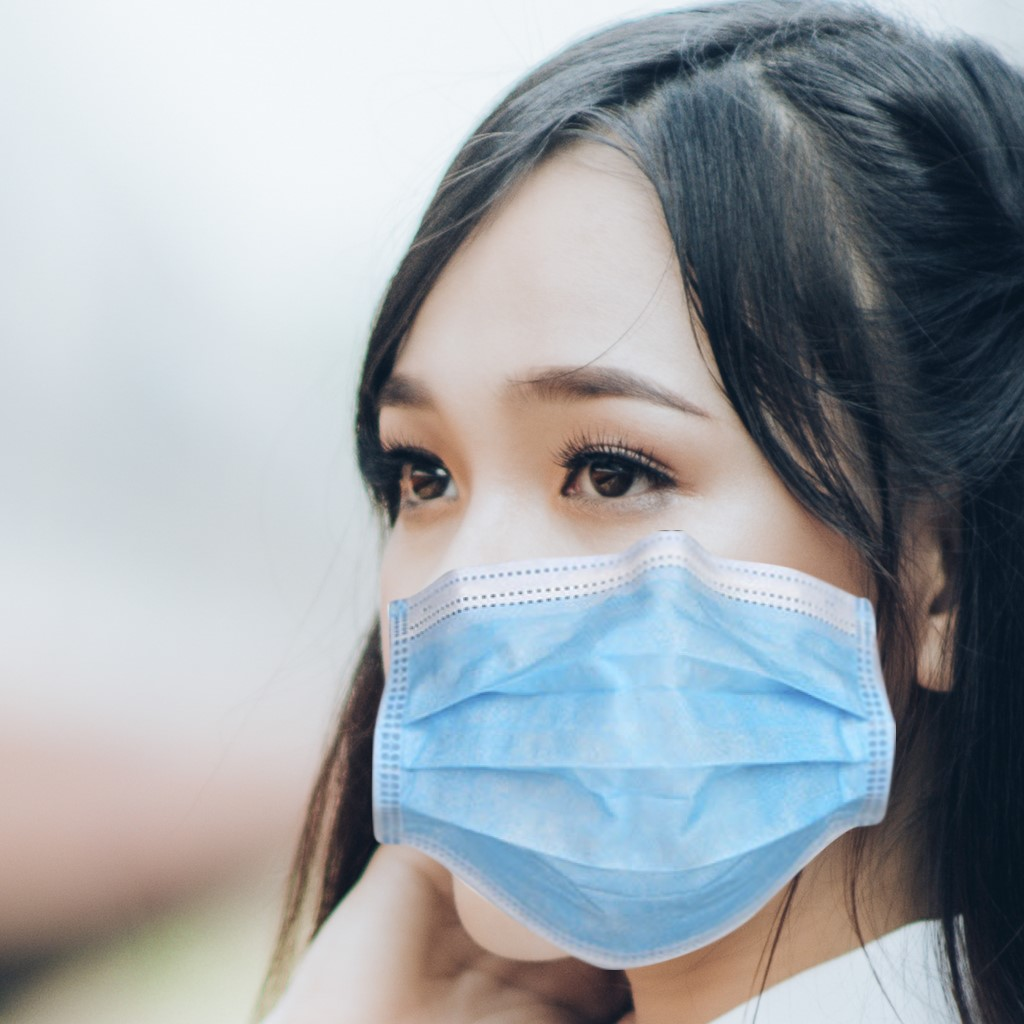con_mascara: (350, 141, 880, 941)
